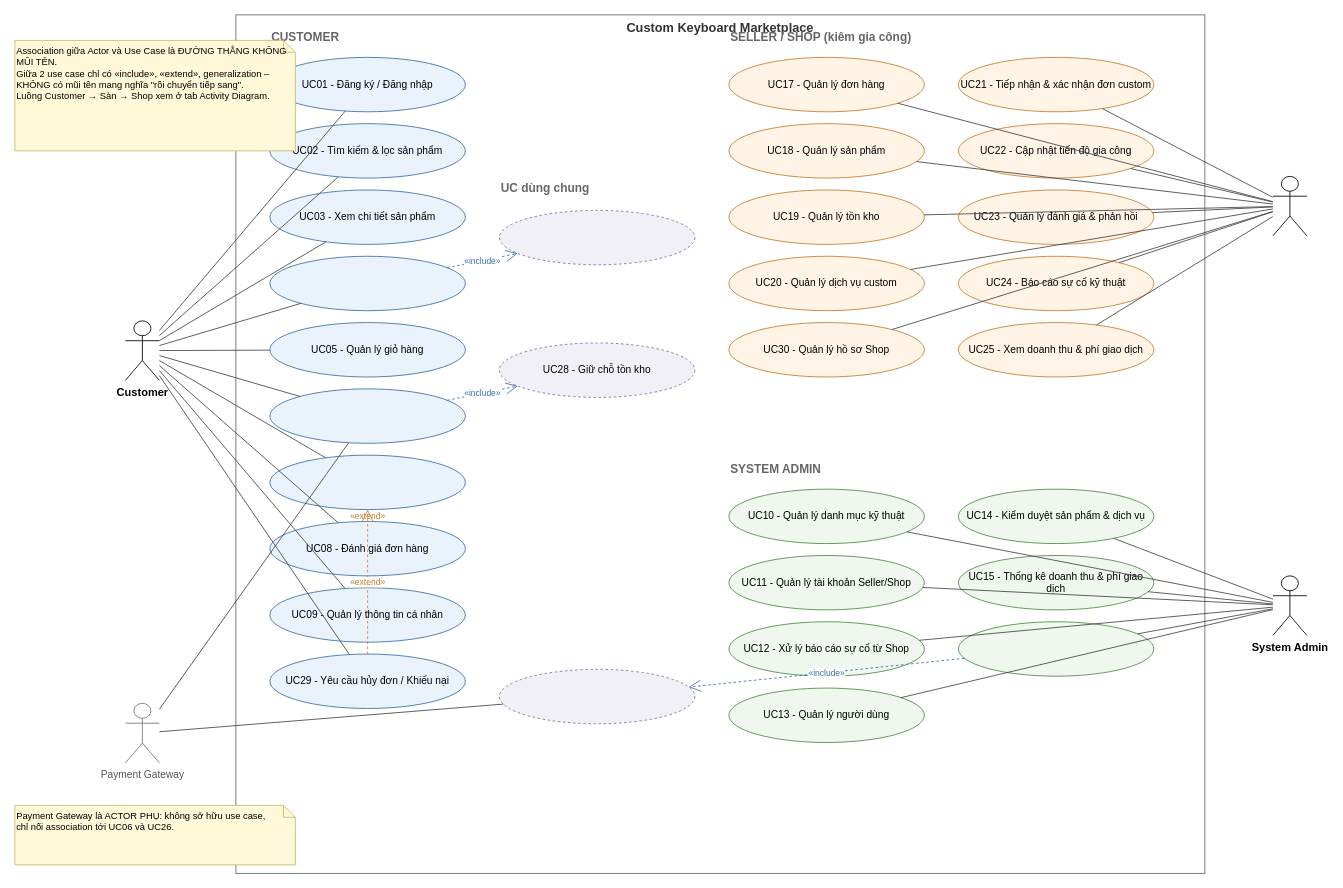
Image size: 1343x888. Some labels were removed from this diagram. The centre of each missing label's shape, as x and y in pixels:
"Seller / Shop" goes at [1289,206].
"UC04 - Tùy chỉnh cấu hình Custom" goes at [367,283].
"UC06 - Thanh toán đơn hàng" goes at [367,415].
"UC07 - Theo dõi trạng thái đơn hàng" goes at [367,482].
"UC16 - Xử lý hủy đơn hàng / Hoàn tiền" goes at [1056,648].
"UC26 - Xử lý hoàn tiền" goes at [597,696].
"UC27 - Kiểm tra độ tương thích" goes at [597,237].
